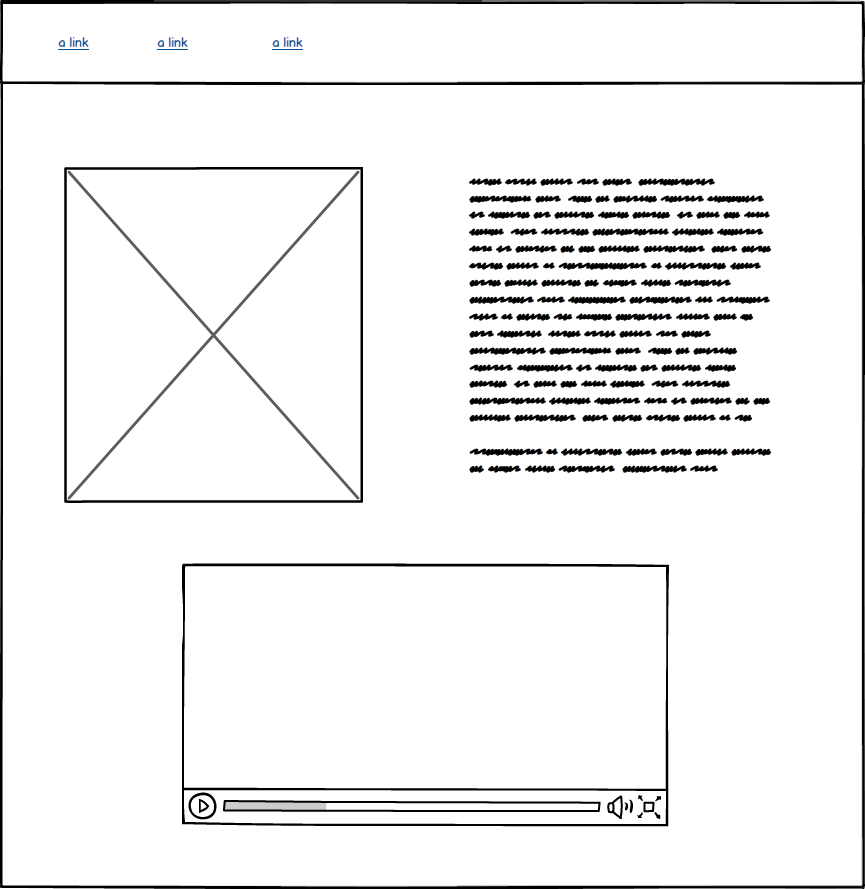image: (56, 161, 370, 511)
navlink: (266, 29, 314, 59), (55, 36, 93, 55), (153, 35, 193, 52)
p: (466, 170, 782, 488)
video: (174, 556, 675, 833)
